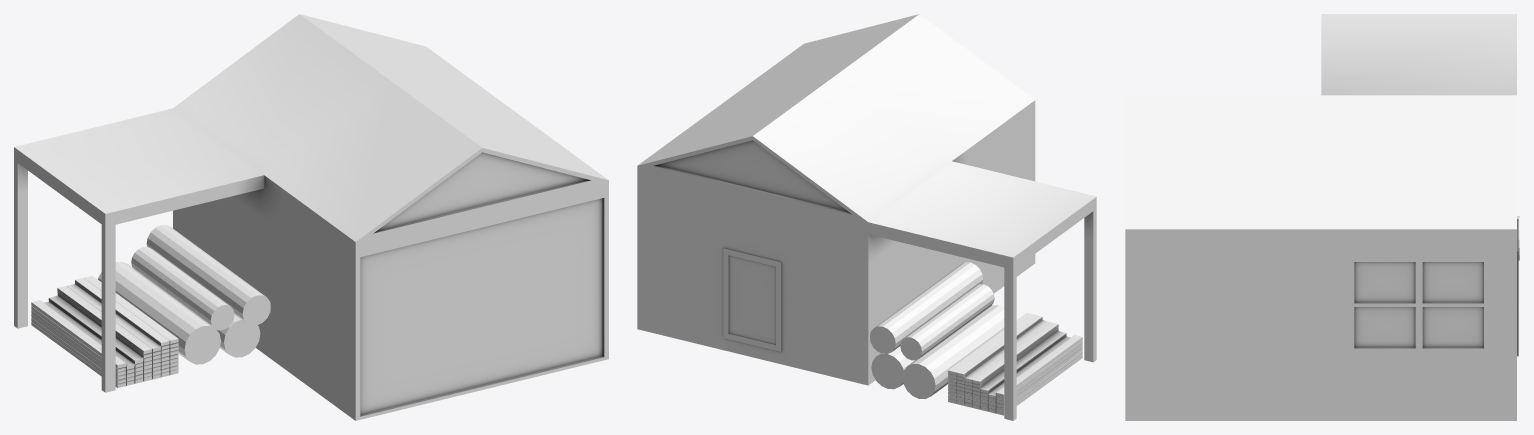
File: Carpentry.fbx
3 renders of one model, left to right at view 1: azimuth 30°, elevation 25°; view 2: azimuth 150°, elevation 25°; view 3: azimuth 270°, elevation 25°, orthographic. The views are drawn at different scales.
Visible parts, largest first — view 1: Carpentry, Board, Log.003, Log.001, Log.002, Log; view 2: Carpentry, Board, Log.001, Log.003, Log.002, Log; view 3: Carpentry.
Part boxes in pixels (x1,y1,x2,y2): Carpentry: [14, 14, 608, 420]; Board: [31, 275, 178, 387]; Log.003: [146, 225, 270, 325]; Log.001: [98, 261, 220, 364]; Log.002: [131, 247, 234, 330]; Log: [217, 315, 260, 357]; Carpentry: [637, 14, 1096, 420]; Board: [948, 313, 1082, 415]; Log.001: [902, 305, 1004, 398]; Log.003: [870, 262, 983, 353]; Log.002: [900, 284, 994, 360]; Log: [871, 346, 914, 389]; Carpentry: [1125, 14, 1518, 420].
Bounding box in the file's own units: 0.781 × 0.4389 × 0.6038.
